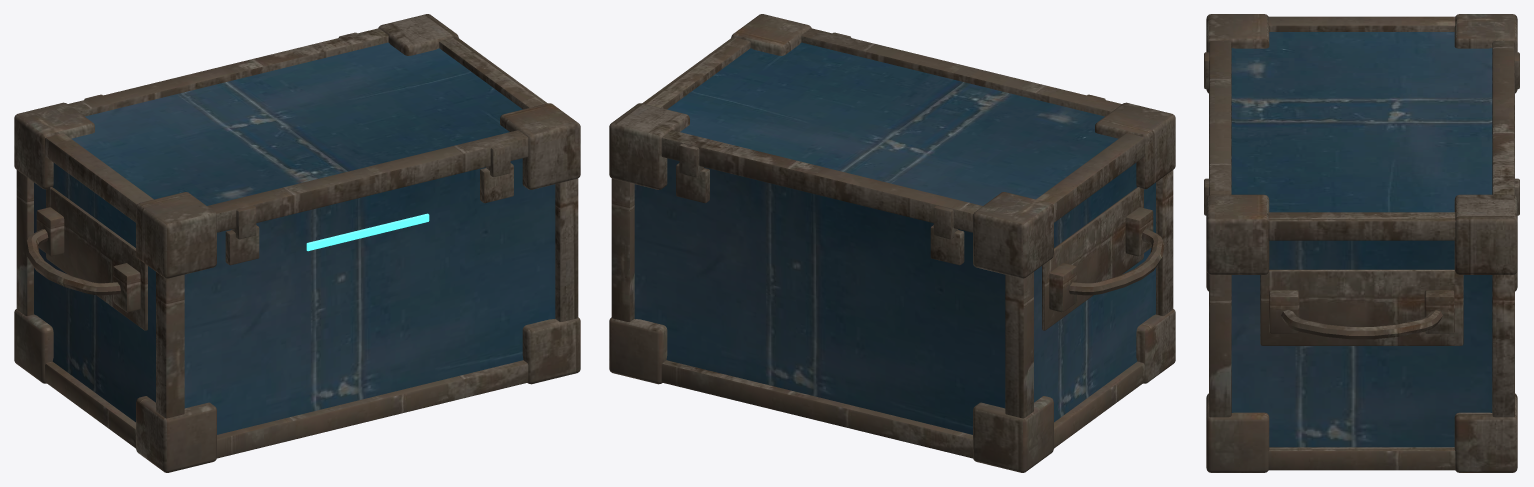
Rendered from scifi-supply-crate_final.glb.
3 views of the same model, side by side, from view 1: azimuth 30°, elevation 25°; view 2: azimuth 150°, elevation 25°; view 3: azimuth 270°, elevation 25° (orthographic).
Visible parts, largest first — view 1: SM_SciFiCrate_Body, SM_SciFiCrate_Rails, SM_SciFiCrate_Corners, SM_SciFiCrate_Handles, SM_SciFiCrate_Latches, SM_SciFiCrate_Light; view 2: SM_SciFiCrate_Body, SM_SciFiCrate_Rails, SM_SciFiCrate_Corners, SM_SciFiCrate_Handles, SM_SciFiCrate_Latches; view 3: SM_SciFiCrate_Body, SM_SciFiCrate_Rails, SM_SciFiCrate_Corners, SM_SciFiCrate_Handles, SM_SciFiCrate_Latches.
Part boxes in pixels (x1=…): SM_SciFiCrate_Body: x1=34, y1=42, x2=555, y2=434; SM_SciFiCrate_Rails: x1=16, y1=28, x2=578, y2=458; SM_SciFiCrate_Corners: x1=14, y1=14, x2=580, y2=472; SM_SciFiCrate_Handles: x1=25, y1=187, x2=147, y2=330; SM_SciFiCrate_Latches: x1=84, y1=32, x2=513, y2=265; SM_SciFiCrate_Light: x1=306, y1=213, x2=429, y2=251; SM_SciFiCrate_Body: x1=634, y1=42, x2=1155, y2=434; SM_SciFiCrate_Rails: x1=611, y1=28, x2=1173, y2=458; SM_SciFiCrate_Corners: x1=609, y1=14, x2=1175, y2=472; SM_SciFiCrate_Handles: x1=1042, y1=187, x2=1164, y2=330; SM_SciFiCrate_Latches: x1=676, y1=32, x2=1105, y2=265; SM_SciFiCrate_Body: x1=1231, y1=32, x2=1492, y2=447; SM_SciFiCrate_Rails: x1=1209, y1=16, x2=1514, y2=470; SM_SciFiCrate_Corners: x1=1206, y1=14, x2=1517, y2=472; SM_SciFiCrate_Handles: x1=1260, y1=269, x2=1463, y2=345; SM_SciFiCrate_Latches: x1=1204, y1=52, x2=1519, y2=215.
Bounding box in the file's own units: 1.01 × 0.47 × 0.528.
3 materials, 2 textured.
